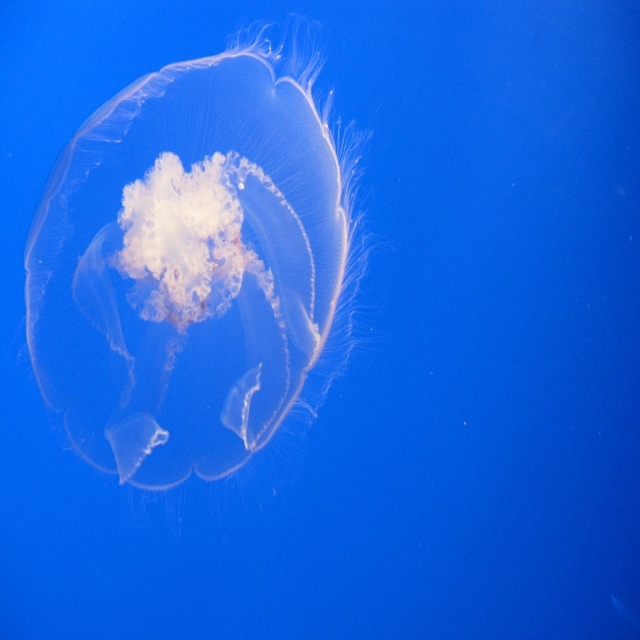Jellyfish: (10, 13, 395, 546)
